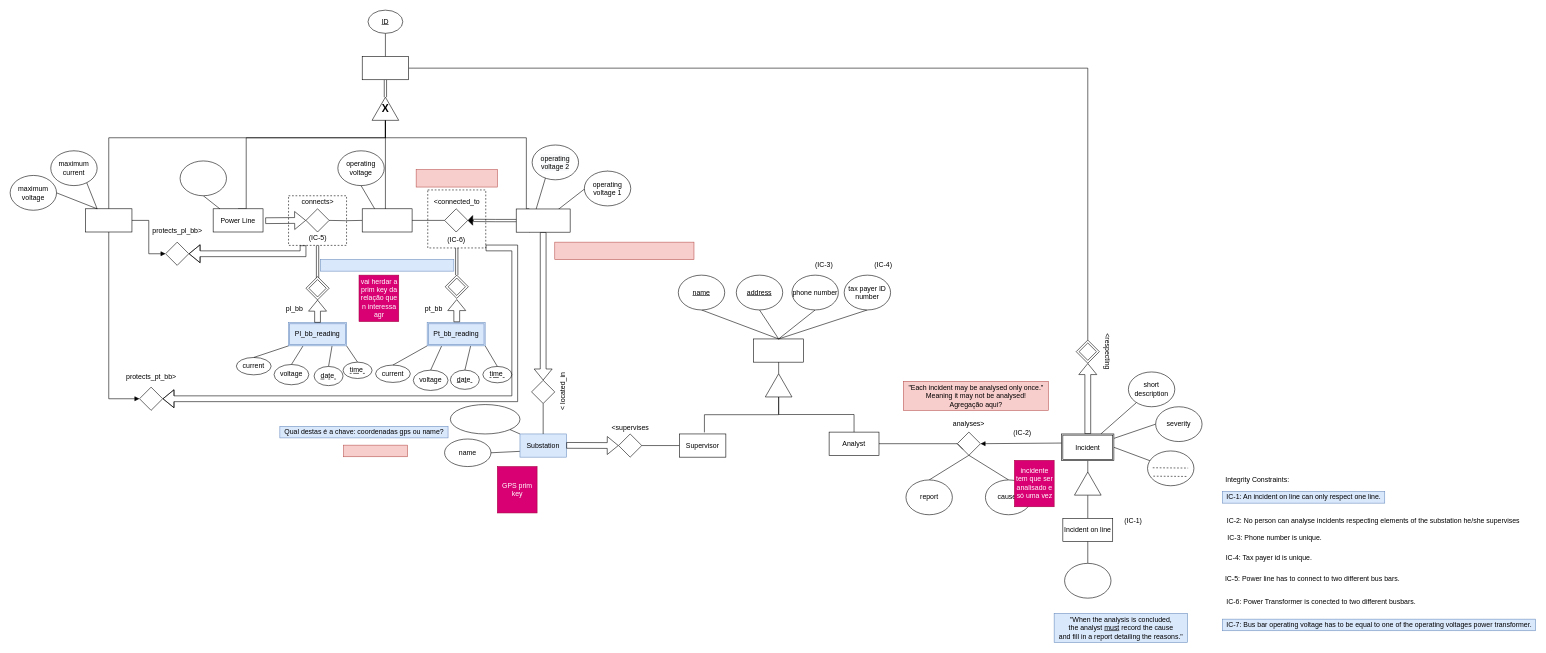
Some shapes in this 1546 by 653 pixel diagram are drawn without their labels. Here are the shapes that lost their labels. From the top down, the centre of each, then its label:
point 385,68: Element
point 203,178: impedance
point 456,178: rever constraints pt liga a mais de um bb
point 108,220: Breaker
point 387,220: Bus Bar
point 543,220: Power Transformer
point 387,265: Qua seria a strong entity de Readings?
point 624,251: Prof deu a entender que de acordo com o texto faz mais sentido ligar à conexão
point 778,350: Person
point 485,419: gps coordinates
point 375,451: gps é mais seguro
point 1170,468: i n s t a n t o f o c c u r e n c e
point 1087,580: point of the line
